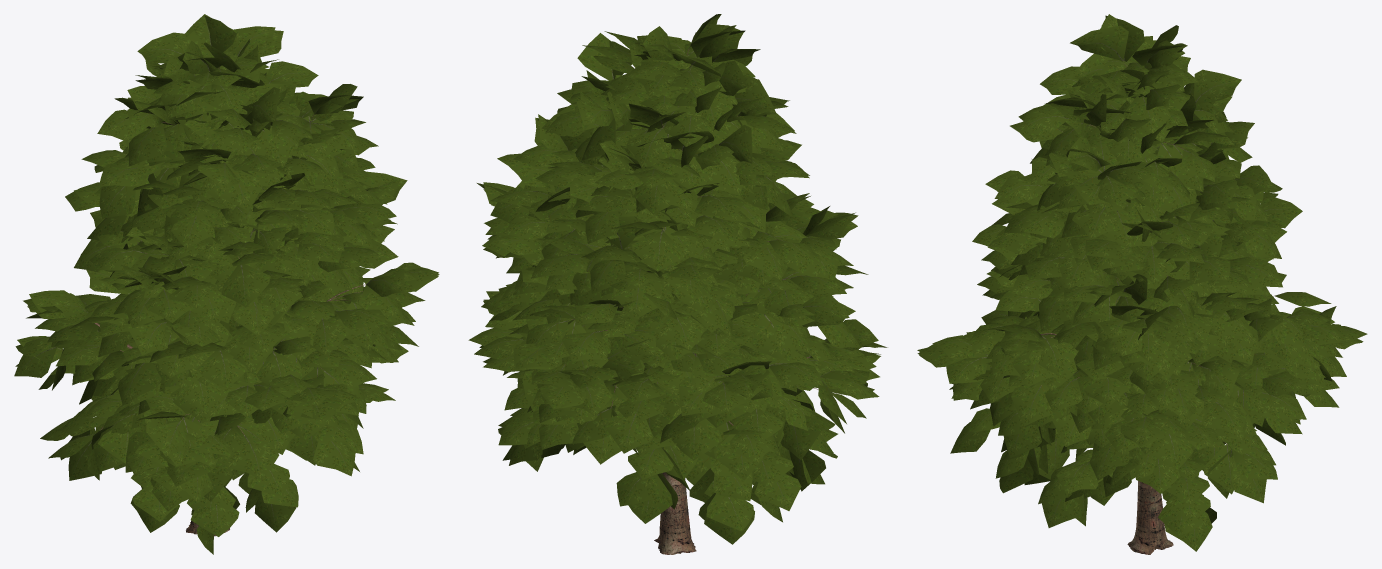
The model's file is tree.glb.
The picture shows the model from 3 angles, left to right: view 1: azimuth 30°, elevation 25°; view 2: azimuth 150°, elevation 25°; view 3: azimuth 270°, elevation 25°; orthographic projection. The views are drawn at different scales.
Visible parts, largest first — view 1: Tree; view 2: Tree; view 3: Tree.
Boxes of the visible parts, bbox=[...] form: Tree: bbox=[14, 14, 439, 554]; Tree: bbox=[468, 14, 887, 554]; Tree: bbox=[917, 14, 1367, 554].
Size of the model in its own units: 5.5 by 7.5 by 6.
2 materials, 2 textured.
